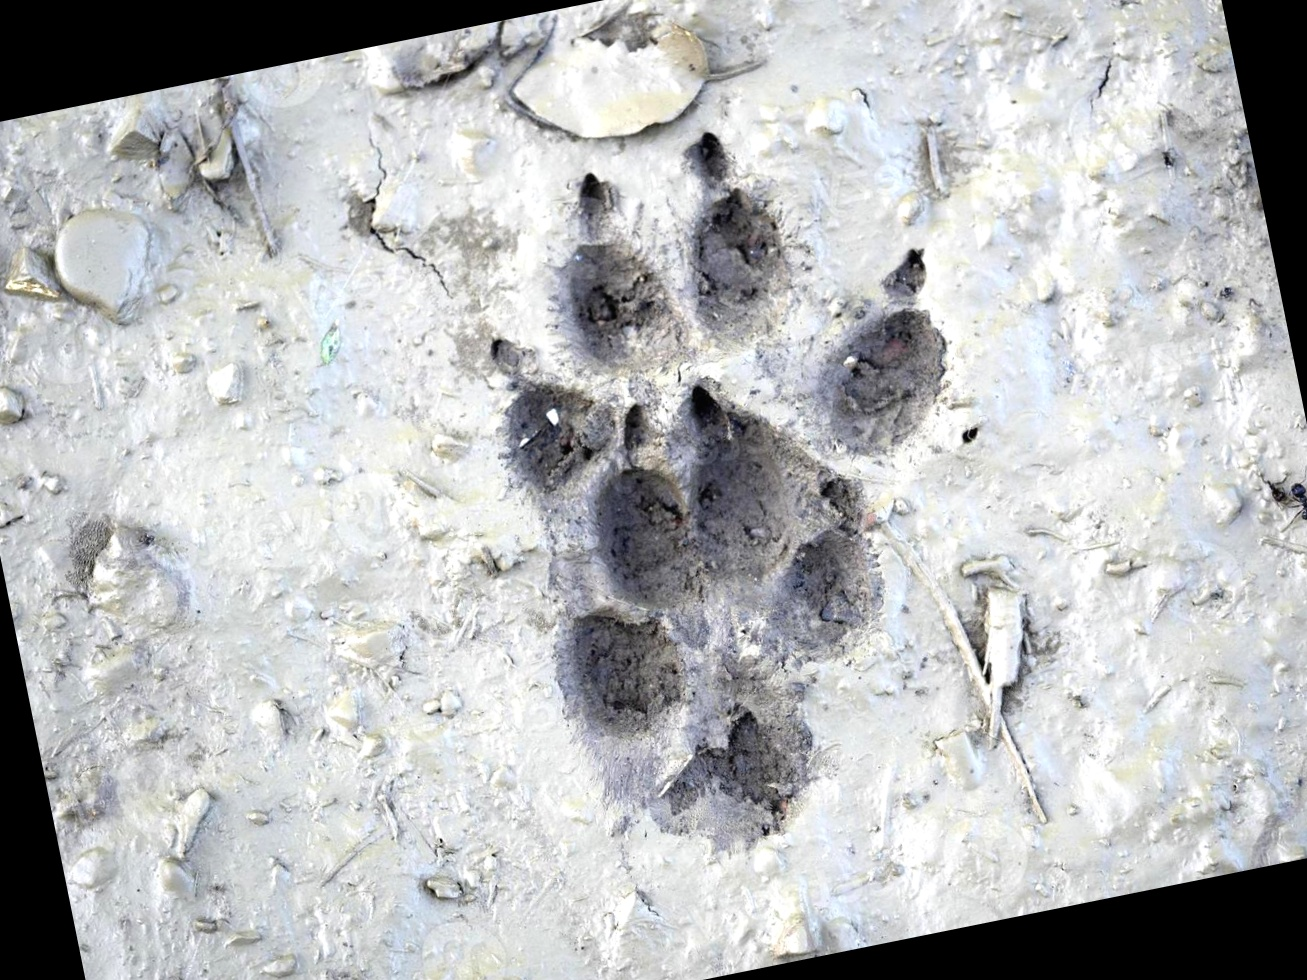coyote: (441, 84, 1046, 882)
